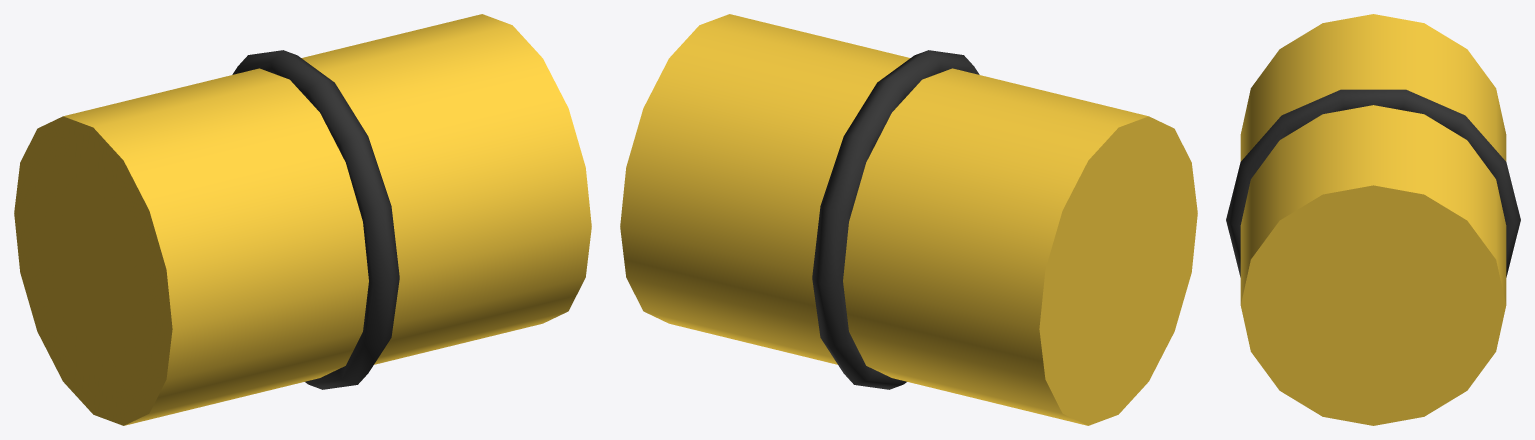
The model's file is gas-cue-tier-2.glb.
3 renders of one model, left to right at view 1: azimuth 30°, elevation 25°; view 2: azimuth 150°, elevation 25°; view 3: azimuth 270°, elevation 25°, orthographic. The views are drawn at different scales.
Parts seen in each view (by area): view 1: Tank, Strap; view 2: Tank, Strap; view 3: Tank, Strap.
Part boxes in pixels (<box>): Tank: <box>14,14,591,425</box>; Strap: <box>232,50,399,389</box>; Tank: <box>620,14,1197,425</box>; Strap: <box>812,50,979,389</box>; Tank: <box>1240,14,1506,425</box>; Strap: <box>1226,89,1520,277</box>.
Bounding box in the file's own units: 0.55 × 0.39 × 0.4.
